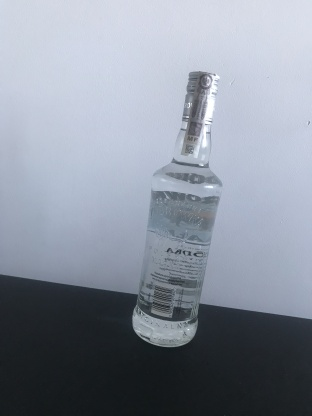nakretka: (179, 67, 222, 128)
